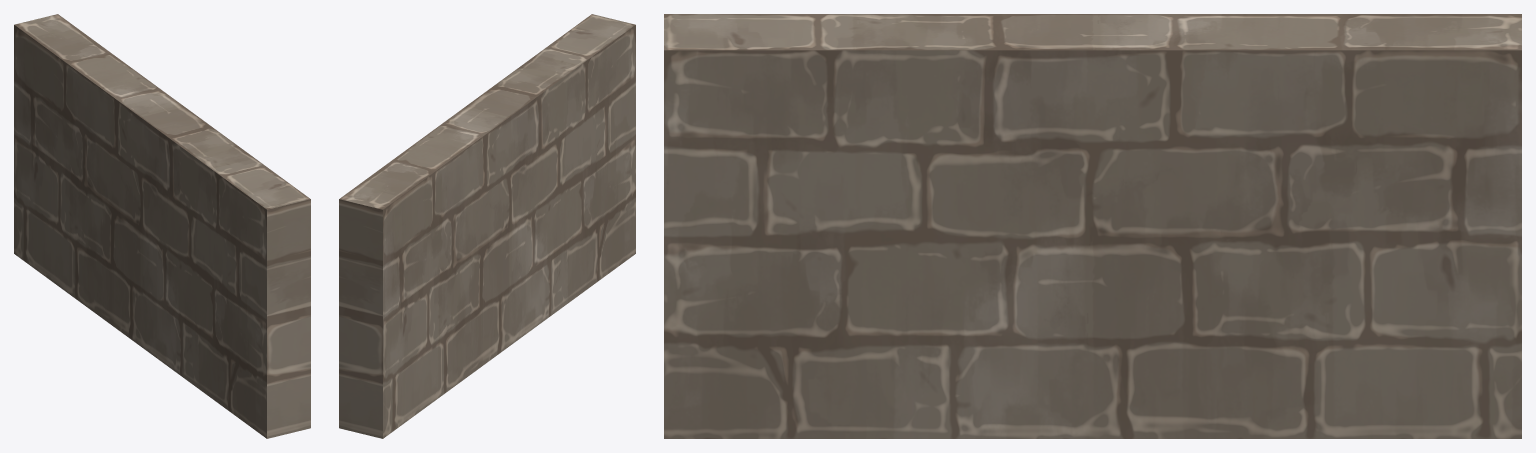
Rendered from Stairs_Exterior_SingleSide.gltf.
3 views of the same model, side by side, from view 1: azimuth 30°, elevation 25°; view 2: azimuth 150°, elevation 25°; view 3: azimuth 270°, elevation 25° (orthographic). The views are drawn at different scales.
Parts seen in each view (by area): view 1: Stairs_Exterior_SingleSide; view 2: Stairs_Exterior_SingleSide; view 3: Stairs_Exterior_SingleSide.
Part boxes in pixels (left/top/right/bottom): Stairs_Exterior_SingleSide: left=14, top=14, right=310, bottom=438; Stairs_Exterior_SingleSide: left=339, top=14, right=635, bottom=438; Stairs_Exterior_SingleSide: left=664, top=14, right=1521, bottom=438.
Size of the model in its own units: 0.2 by 1 by 2.
Materials: 1 (1 with a texture image).
